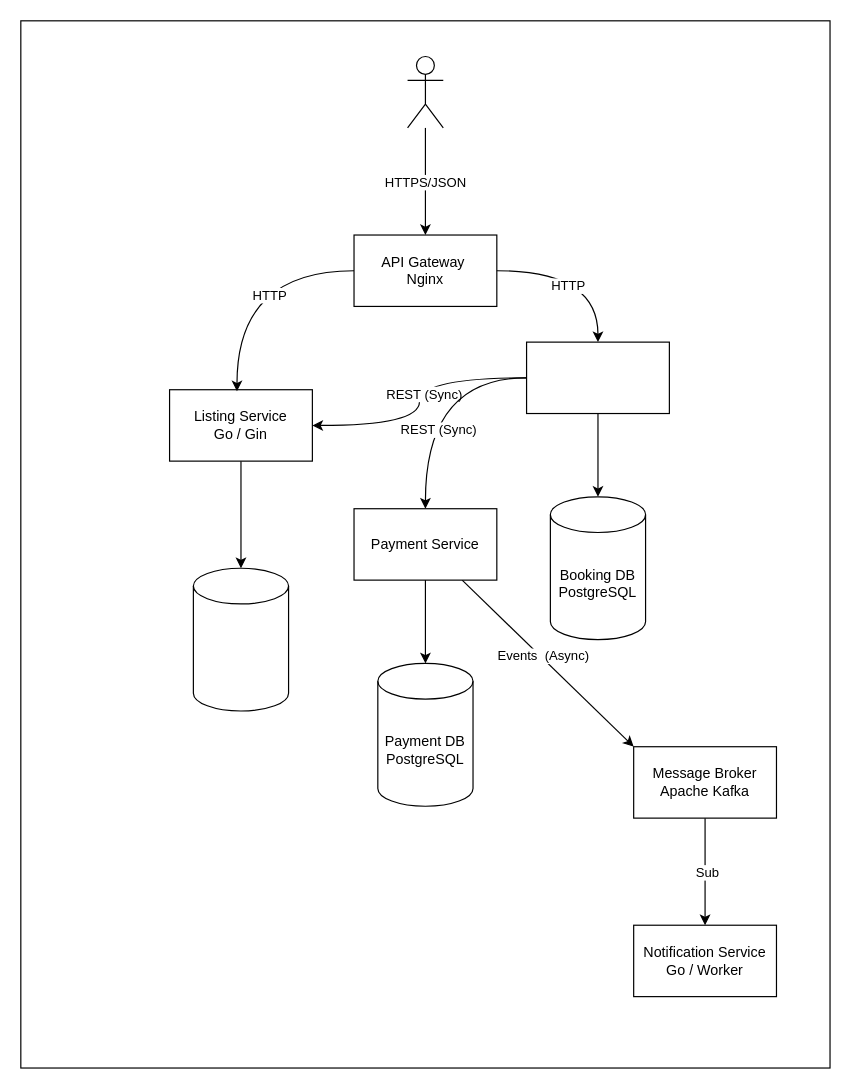
Image size: 851x1089. Some labels were removed from this diagram. The centre of each missing label's shape, as x and y in pixels:
"Booking Service REST" belongs at [597,377].
"Listing DB PostgreSQL" belongs at [240,639].
"Пользователь" belongs at [424,91].
